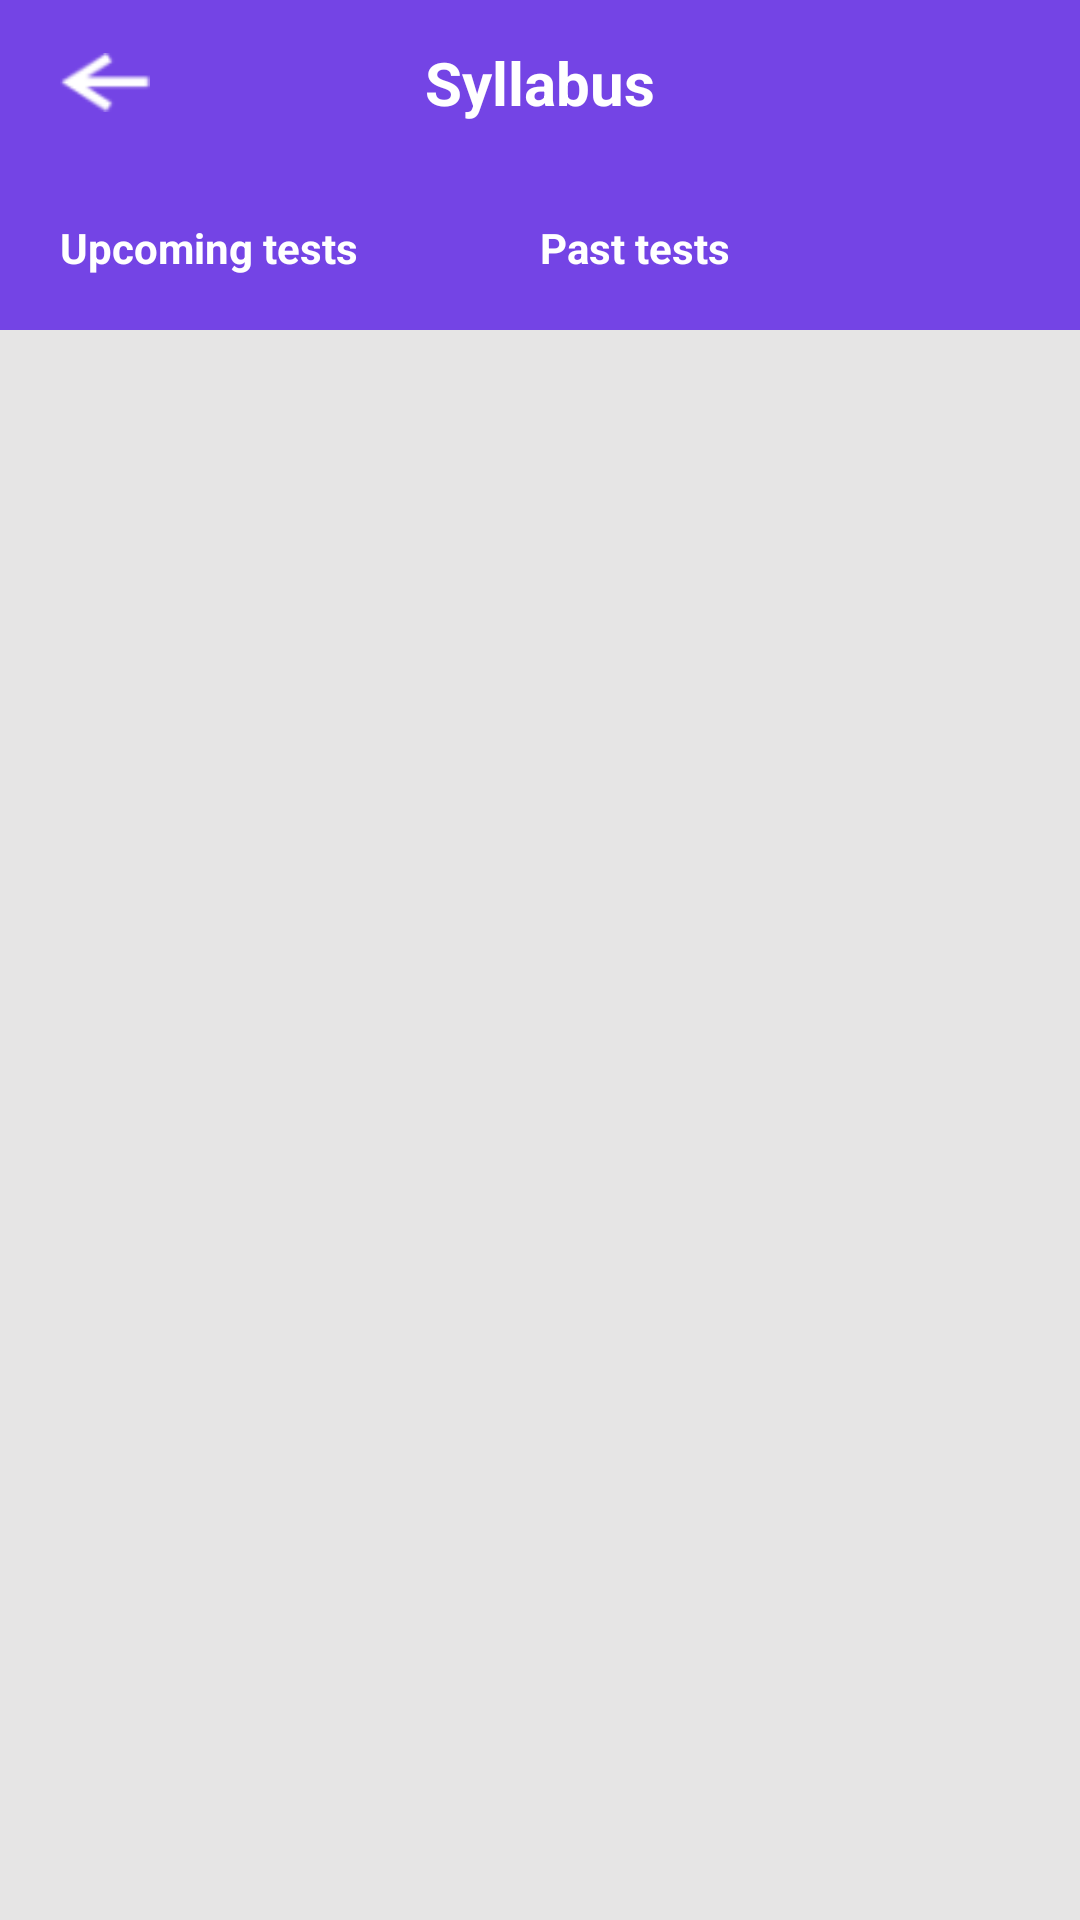

Screen size 1080w x 1920h. Icon name, then its box in pixels as (x1, y1, x2, y2):
back: (61, 53, 150, 112)
